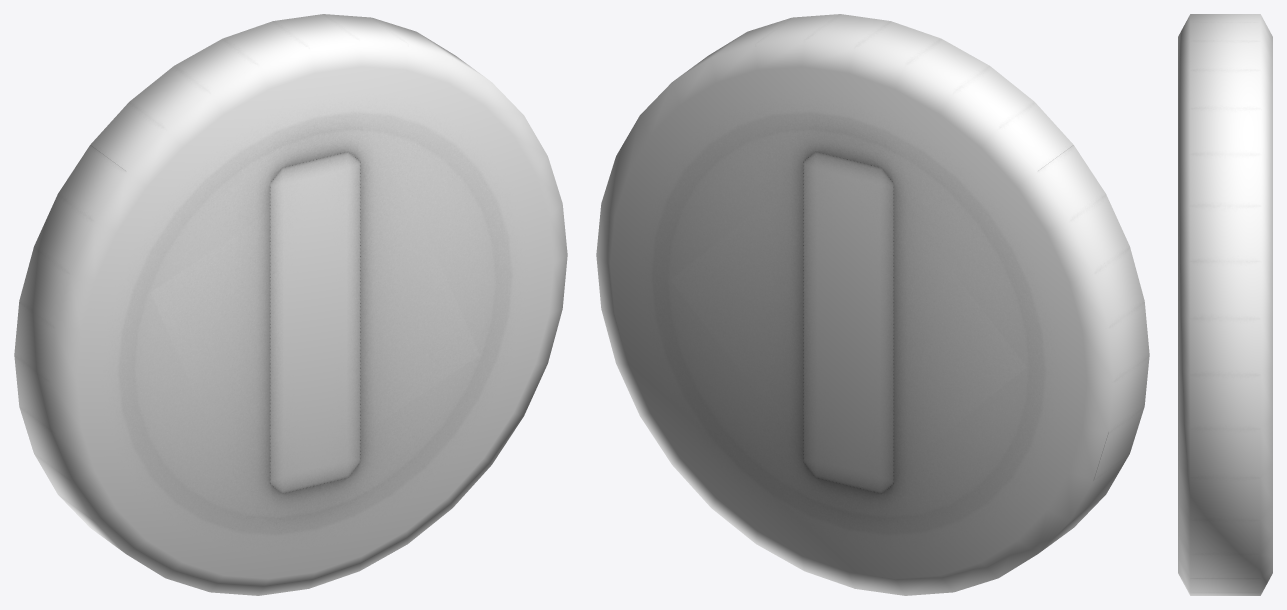
The model's file is CoinModel.glb.
The picture shows the model from 3 angles, left to right: view 1: azimuth 30°, elevation 25°; view 2: azimuth 150°, elevation 25°; view 3: azimuth 270°, elevation 25°; orthographic projection. The views are drawn at different scales.
Parts seen in each view (by area): view 1: CoinSD; view 2: CoinSD; view 3: CoinSD.
Boxes of the visible parts, x1,y1,x2,y2 form: CoinSD: [14, 14, 567, 595]; CoinSD: [596, 14, 1149, 595]; CoinSD: [1178, 14, 1272, 595].
Bounding box in the file's own units: 2.17 × 2.17 × 0.3541.
1 material, 1 textured.
